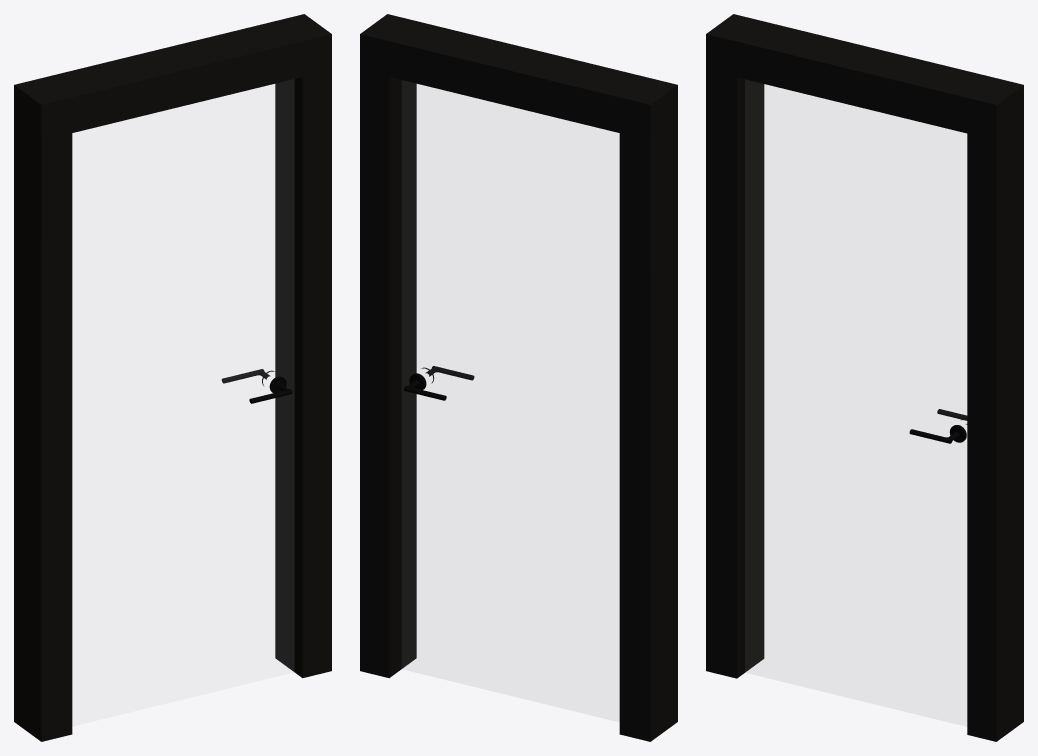
The model's file is PBR - Metallic Roughness.glb.
3 views of the same model, side by side, from view 1: azimuth 30°, elevation 25°; view 2: azimuth 150°, elevation 25°; view 3: azimuth 330°, elevation 25° (orthographic).
Visible parts, largest first — view 1: door1:polySurface29; view 2: door1:polySurface29; view 3: door1:polySurface29.
Part boxes in pixels (x1=…): door1:polySurface29: x1=14, y1=14, x2=331, y2=741; door1:polySurface29: x1=360, y1=14, x2=677, y2=741; door1:polySurface29: x1=706, y1=14, x2=1023, y2=741.
Bounding box in the file's own units: 1.01 × 2.11 × 0.1871.
Materials: 1 (1 with a texture image).
